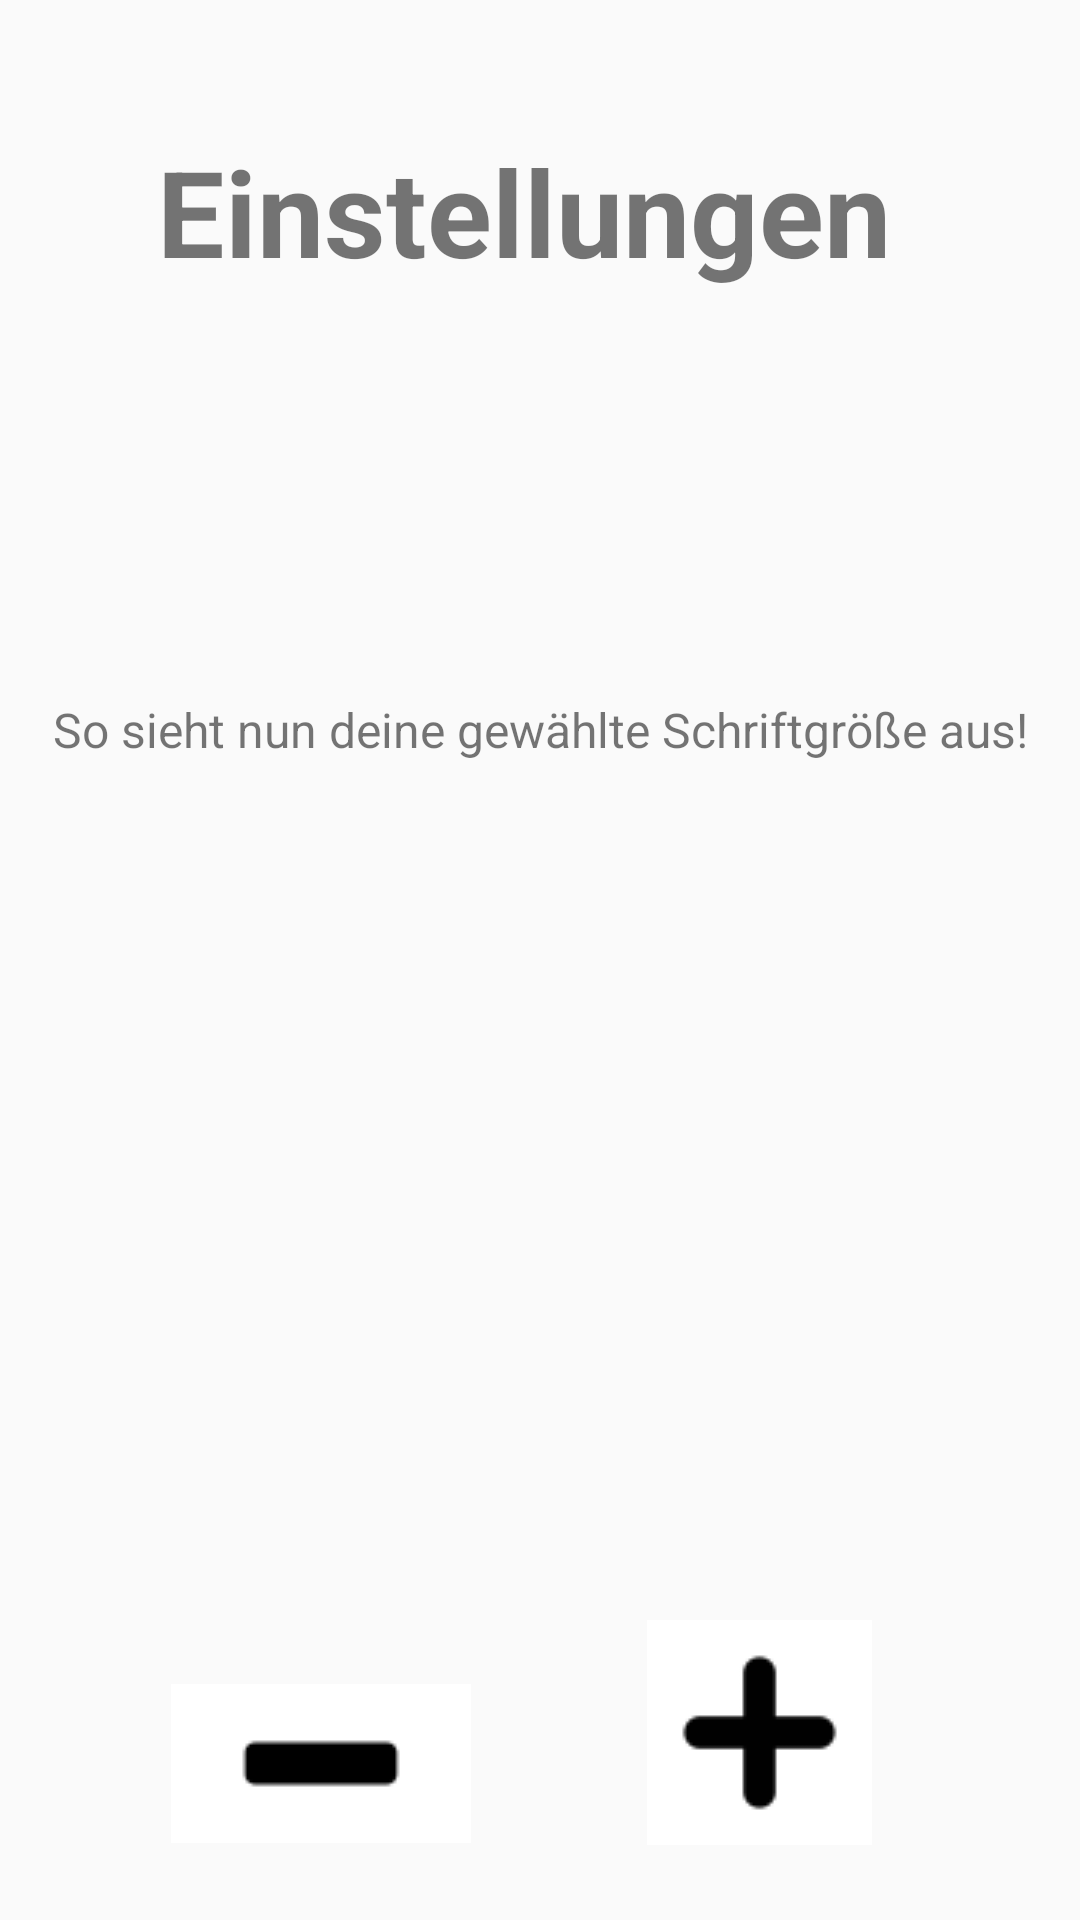

Named icons in this screenshot (1080*1920) and their centers, [x,y]:
minus: [321,1763]
plus: [759,1732]
